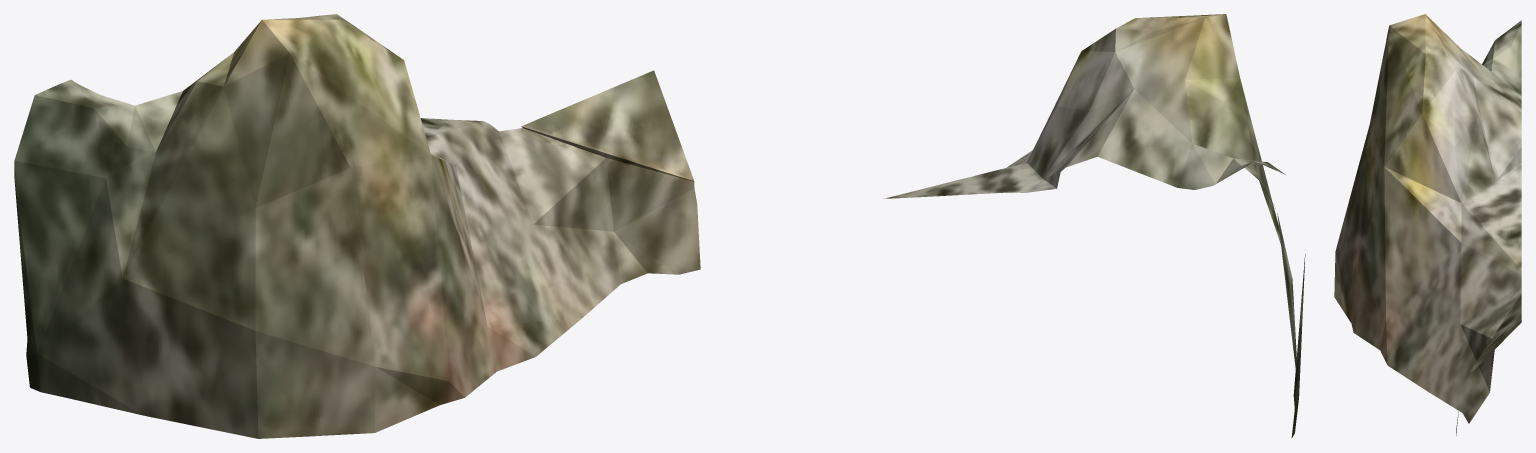
3 renders of one model, left to right at view 1: azimuth 30°, elevation 25°; view 2: azimuth 150°, elevation 25°; view 3: azimuth 270°, elevation 25°, orthographic. The views are drawn at different scales.
Bounding box in the file's own units: 2.36 × 1.33 × 0.8477.
Materials: 1 (1 with a texture image).
